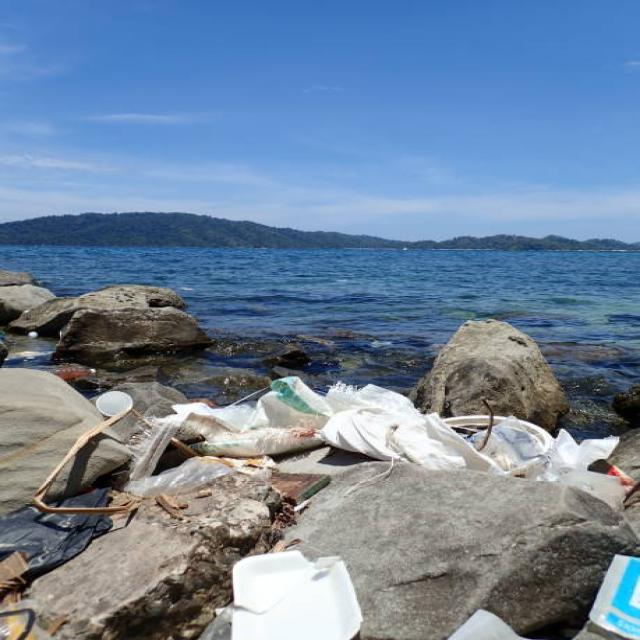plastic: (105, 385, 623, 477)
